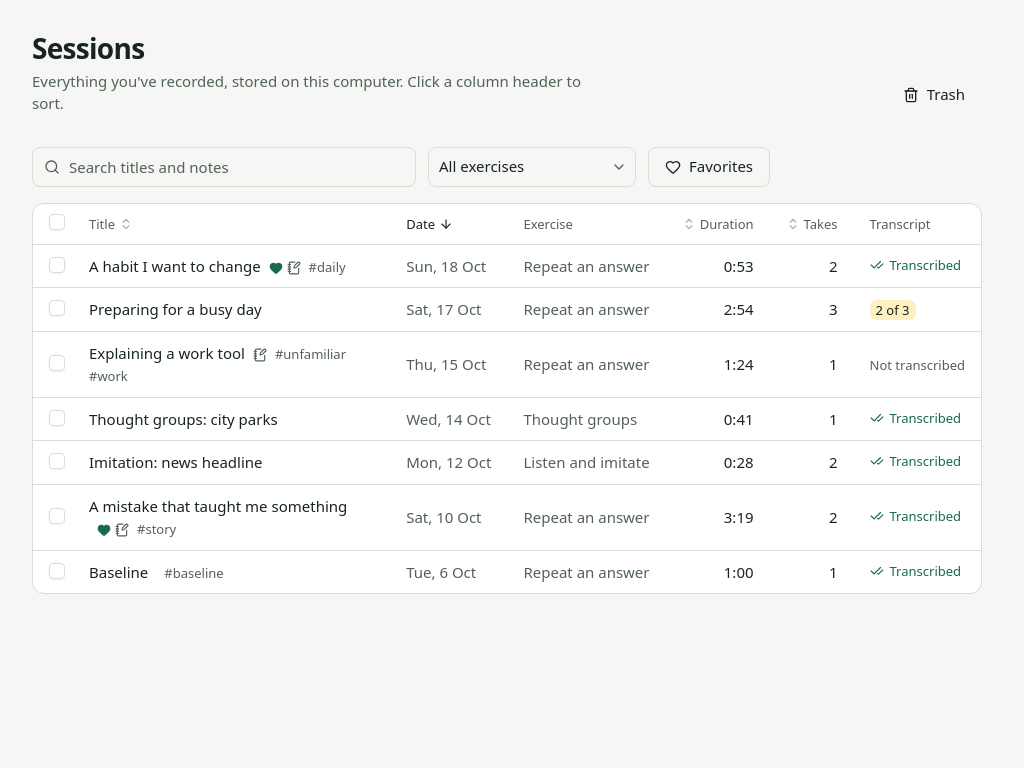
marks how much of each session is transcribed and moves a selection to Trash after asking
Expected: the row "A habit I want to change" shows "Transcribed", [890,256,961,274]
Expected: the row "Explaining a work tool" shows "Not transcribed", [870,356,965,374]
Step 1. Click the checkbox named "Select A habit I want to change" → (57,265), box [49,257,65,273]
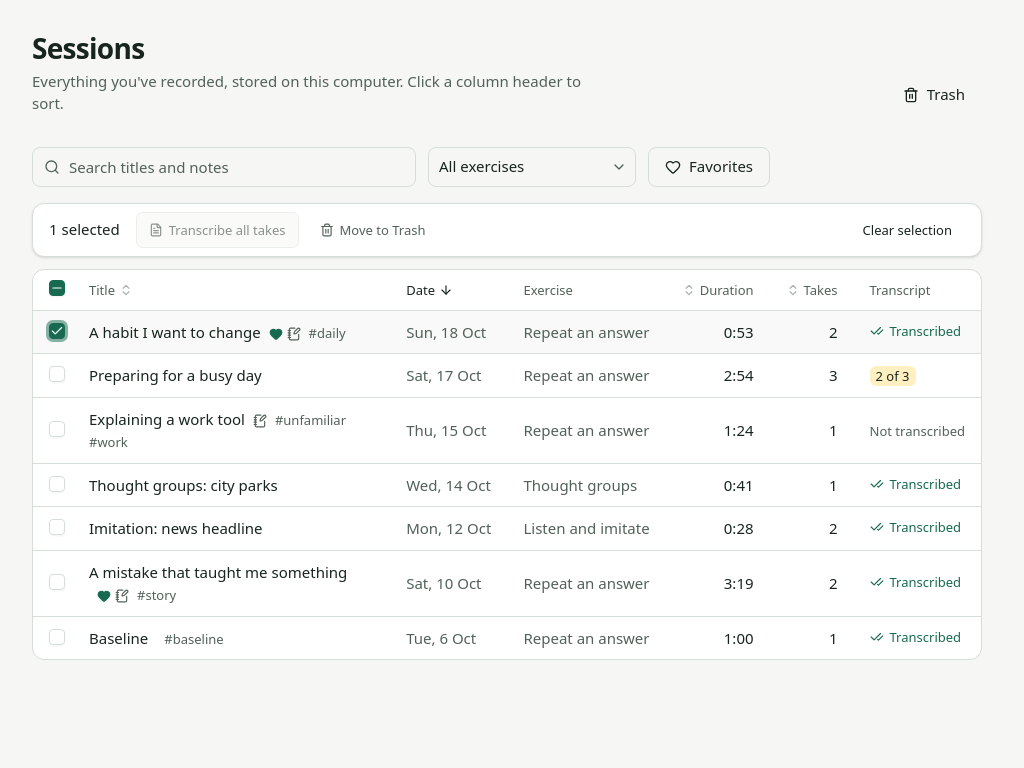
Step 2. Click the checkbox named "Select Explaining a work tool" → (57,429), box [49,421,65,437]
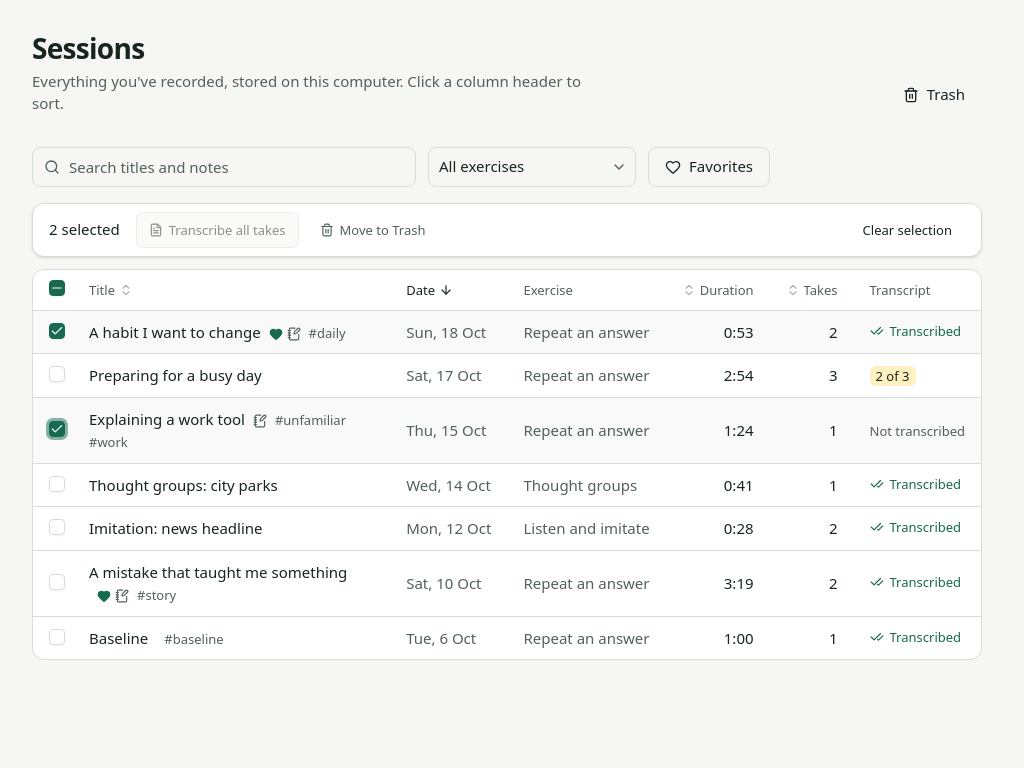
Expected: the button "Transcribe all takes" is disabled, [136,212,299,248]
Expected: the element named "Selected sessions" shows "2 selected", [32,203,982,257]
Step 3. Click the button "Move to Trash" → (373,230), box [307,212,438,248]
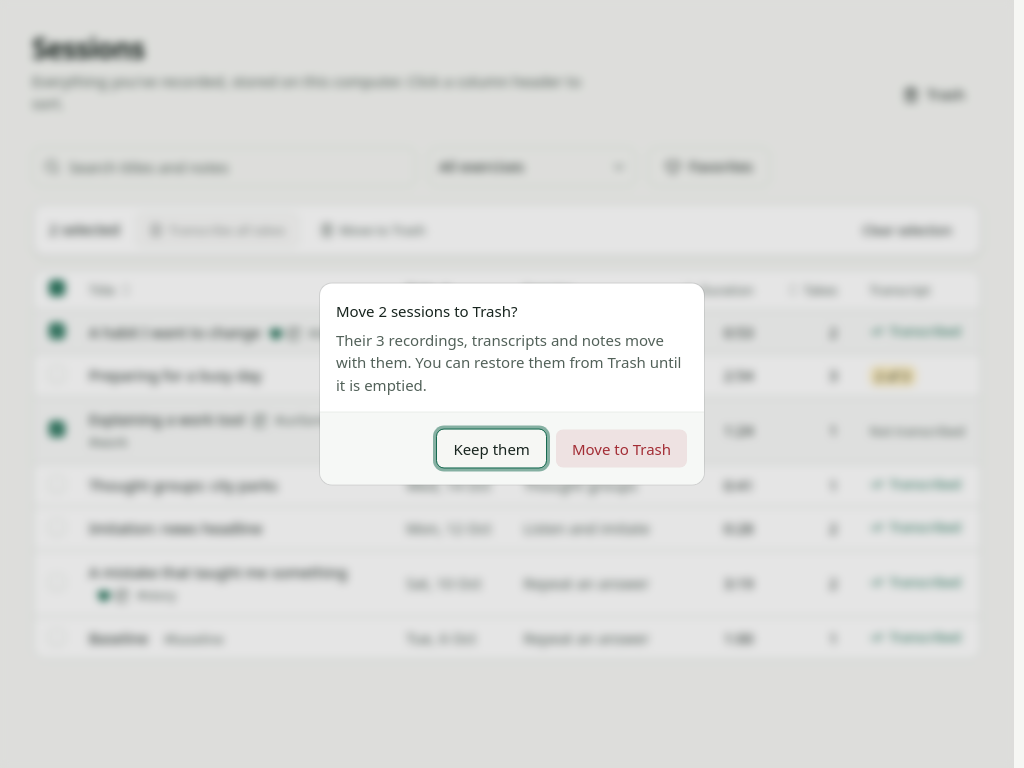
Expected: the dialog shows "Move 2 sessions to Trash?", [320,284,704,484]
Step 4. Click the button "Move to Trash" → (621,448), box [555,428,688,468]
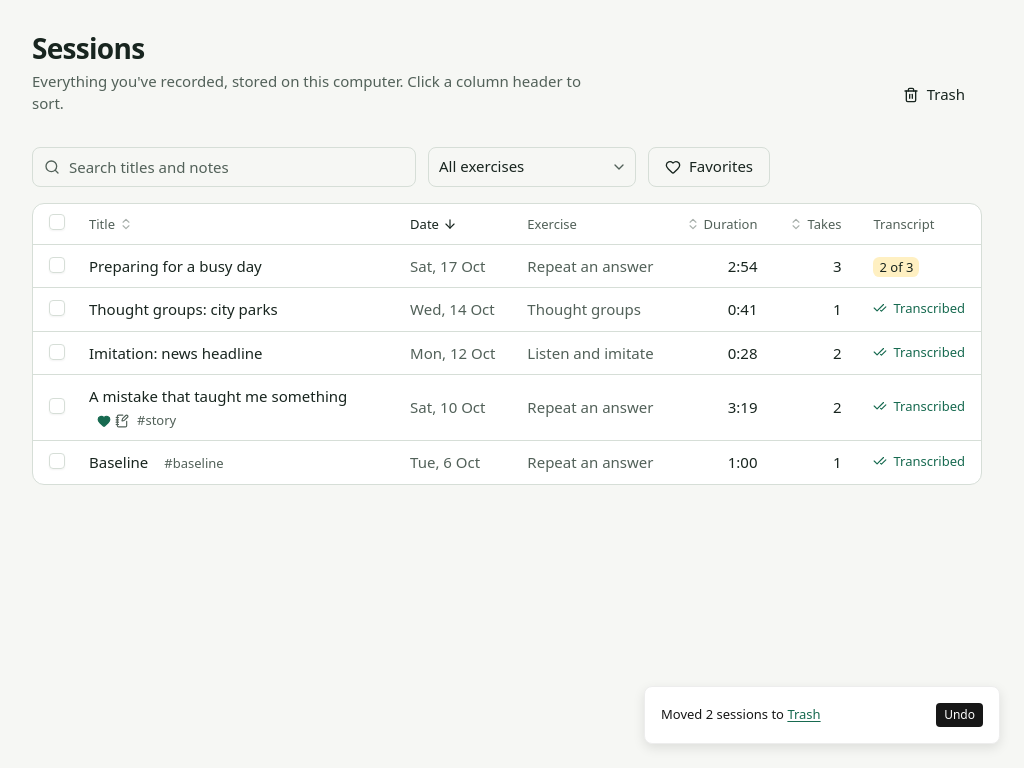
Expected: the dialog is gone
Step 5. Click the button "Trash" → (804,715), box [787,705,821,725]
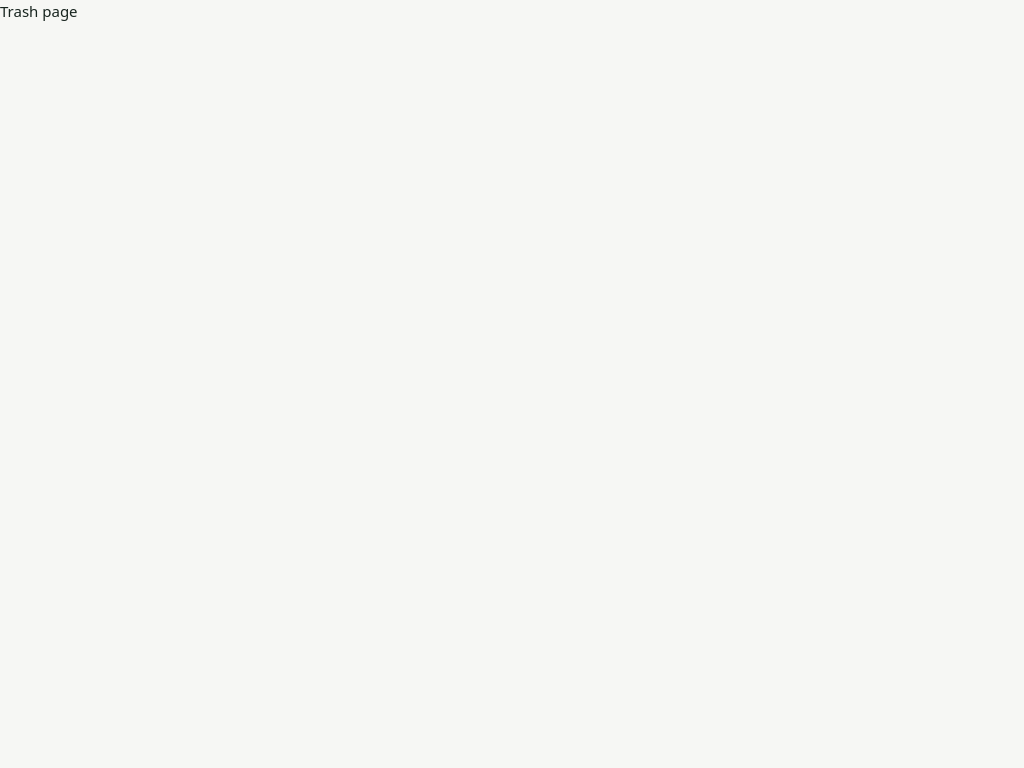
Expected: the text "Trash page" is shown, [0,1,78,21]
